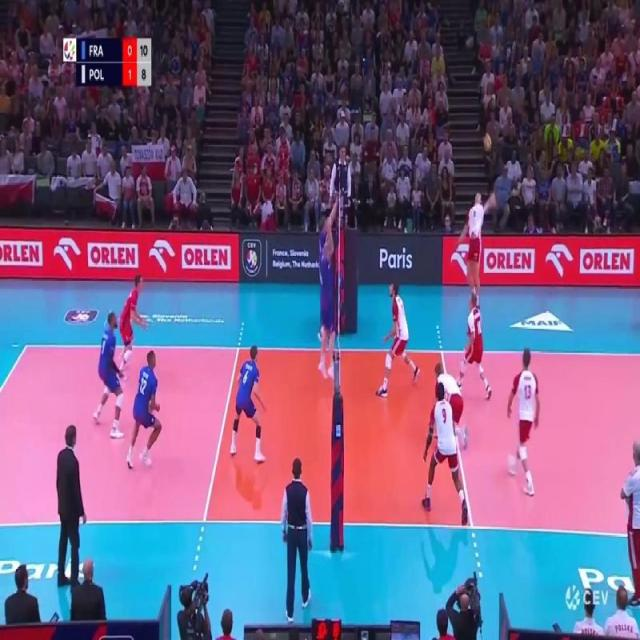volleyball: (483, 134, 491, 151)
